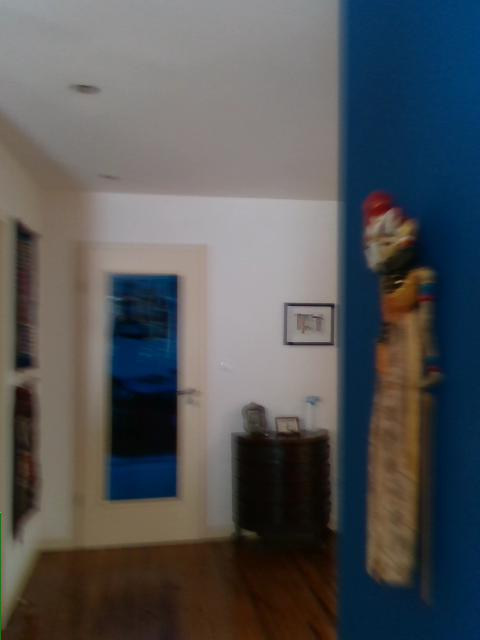door: (76, 241, 204, 548)
